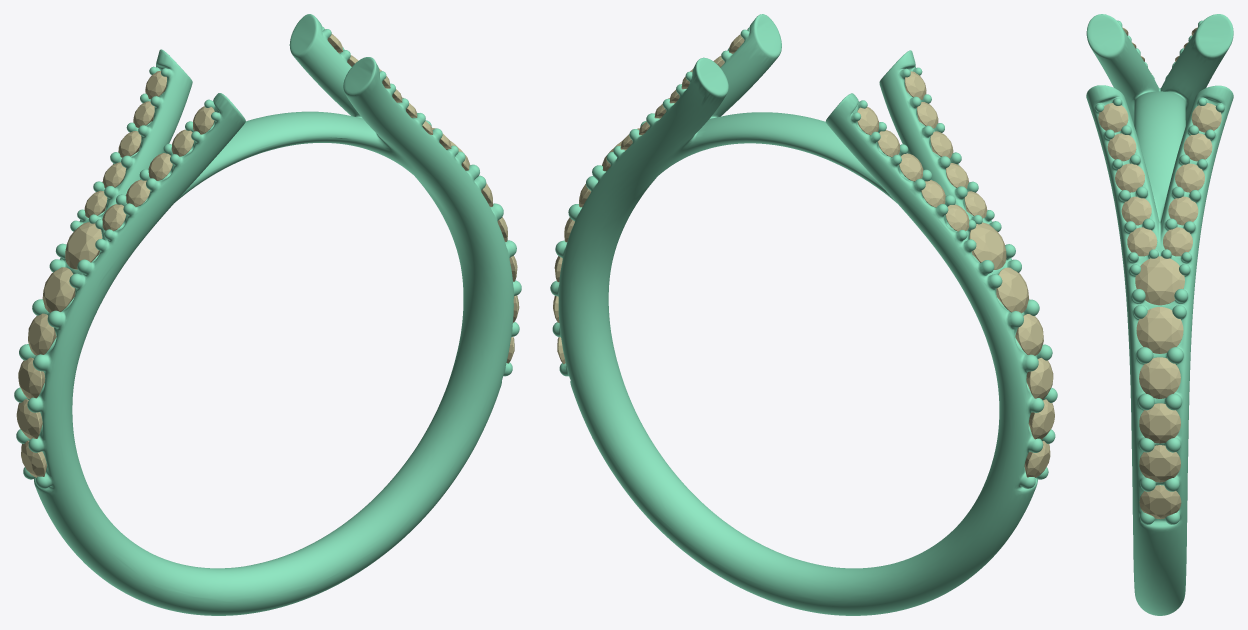
3 renders of one model, left to right at view 1: azimuth 30°, elevation 25°; view 2: azimuth 150°, elevation 25°; view 3: azimuth 270°, elevation 25°, orthographic. The views are drawn at different scales.
Parts seen in each view (by area): view 1: Metal02, Diamond_Gem.026, Diamond_Gem.027, Diamond_Gem.031, Diamond_Gem.030, Diamond_Gem.029; view 2: Metal02, Diamond_Gem.026, Diamond_Gem.027, Diamond_Gem.031, Diamond_Gem.030, Diamond_Gem.029; view 3: Metal02, Diamond_Gem.005, Diamond_Gem.004, Diamond_Gem, Diamond_Gem.001, Diamond_Gem.002, Diamond_Gem.003, Diamond_Gem.011, Diamond_Gem.010, Diamond_Gem.009, Diamond_Gem.012, Diamond_Gem.008 (+5 smaller).
Part boxes in pixels (x1,y1,x2,y2): Metal02: (14,14,521,615); Diamond_Gem.026: (65,222,102,269); Diamond_Gem.027: (42,267,75,312); Diamond_Gem.031: (28,313,56,355); Diamond_Gem.030: (18,357,45,399); Diamond_Gem.029: (16,399,42,439); Metal02: (550,14,1057,615); Diamond_Gem.026: (969,222,1006,269); Diamond_Gem.027: (996,267,1028,313); Diamond_Gem.031: (1015,314,1043,355); Diamond_Gem.030: (1026,357,1053,399); Diamond_Gem.029: (1028,399,1054,439); Metal02: (1086,14,1233,615); Diamond_Gem.005: (1135,256,1184,305); Diamond_Gem.004: (1136,307,1183,353); Diamond_Gem: (1139,357,1180,398); Diamond_Gem.001: (1139,403,1180,443); Diamond_Gem.002: (1139,445,1180,482); Diamond_Gem.003: (1139,485,1181,519); Diamond_Gem.011: (1175,163,1204,192); Diamond_Gem.010: (1115,163,1144,192); Diamond_Gem.009: (1127,227,1157,256); Diamond_Gem.012: (1163,227,1192,256); Diamond_Gem.008: (1098,103,1128,132).
Bounding box in the file's own units: 21.28 × 22.84 × 5.64.
